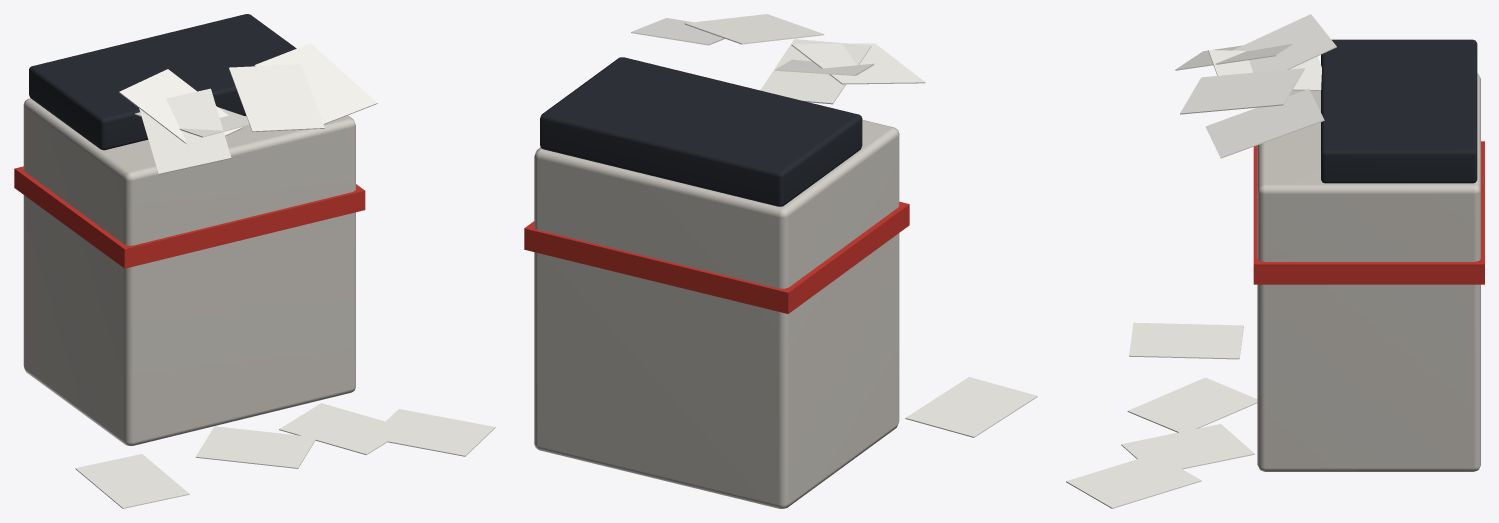
File: PrinterBroken.fbx
3 renders of one model, left to right at view 1: azimuth 30°, elevation 25°; view 2: azimuth 150°, elevation 25°; view 3: azimuth 270°, elevation 25°, orthographic. The views are drawn at different scales.
Visible parts, largest first — view 1: PrinterBrokenBody; view 2: PrinterBrokenBody; view 3: PrinterBrokenBody.
Boxes of the visible parts, x1,y1,x2,y2 form: PrinterBrokenBody: [14, 14, 495, 508]; PrinterBrokenBody: [524, 14, 1037, 508]; PrinterBrokenBody: [1066, 14, 1484, 508].
Bounding box in the file's own units: 1.18 × 1.04 × 1.12.
